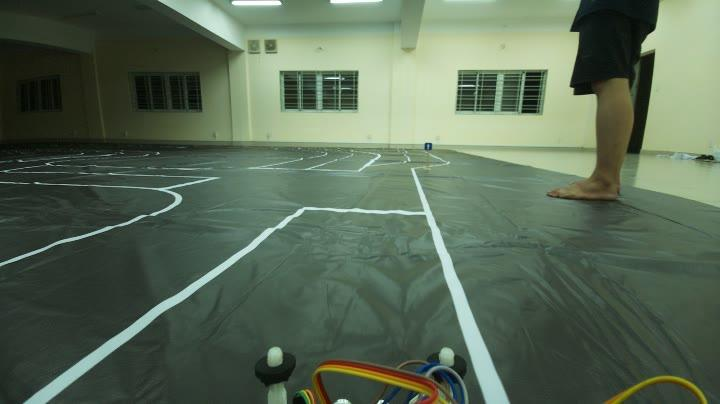onewayroad: (421, 140, 432, 156)
